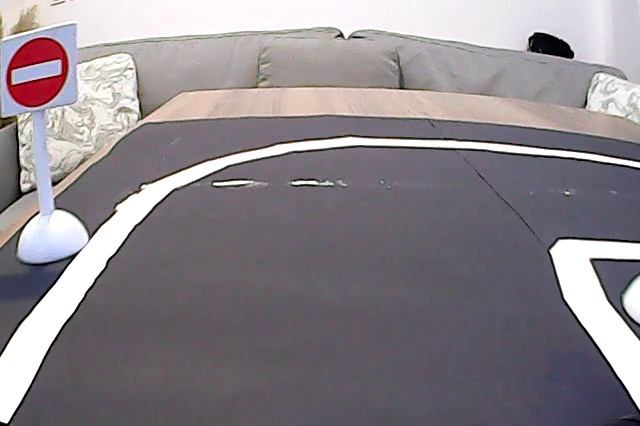do not enter: (3, 35, 75, 111)
